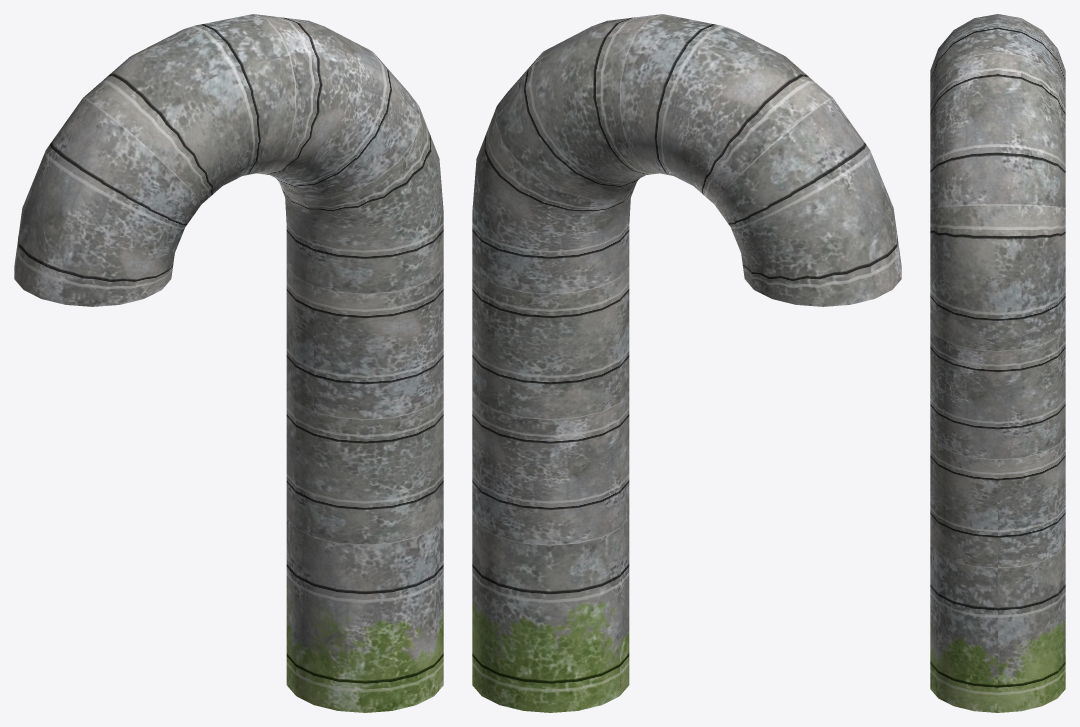
The model's file is Obj_Pipes_Large_1.FBX.
The picture shows the model from 3 angles, left to right: view 1: azimuth 30°, elevation 25°; view 2: azimuth 150°, elevation 25°; view 3: azimuth 270°, elevation 25°; orthographic projection. The views are drawn at different scales.
Visible parts, largest first — view 1: Cylinder001; view 2: Cylinder001; view 3: Cylinder001.
Part boxes in pixels (left/top/right/bottom): Cylinder001: left=14, top=14, right=443, bottom=712; Cylinder001: left=472, top=14, right=901, bottom=712; Cylinder001: left=930, top=14, right=1065, bottom=712.
Size of the model in its own units: 5.77 by 9.22 by 1.91.
